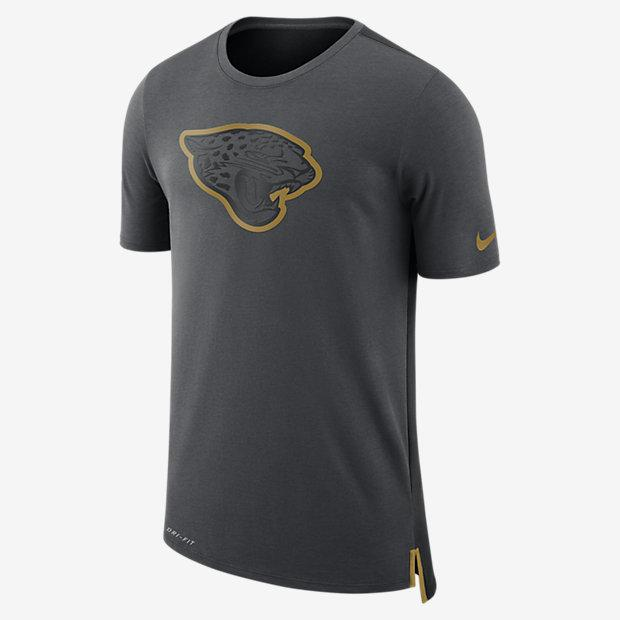teeshirt: (108, 10, 508, 613)
